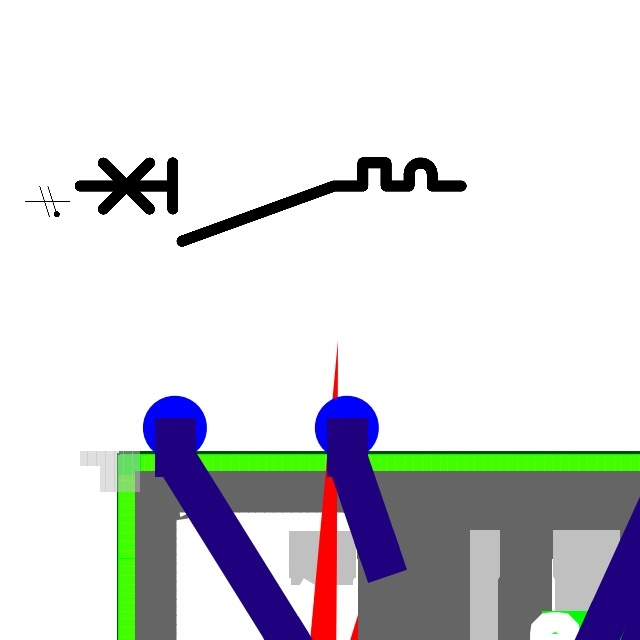interruptor_termomagnetico: (70, 153, 471, 251)
